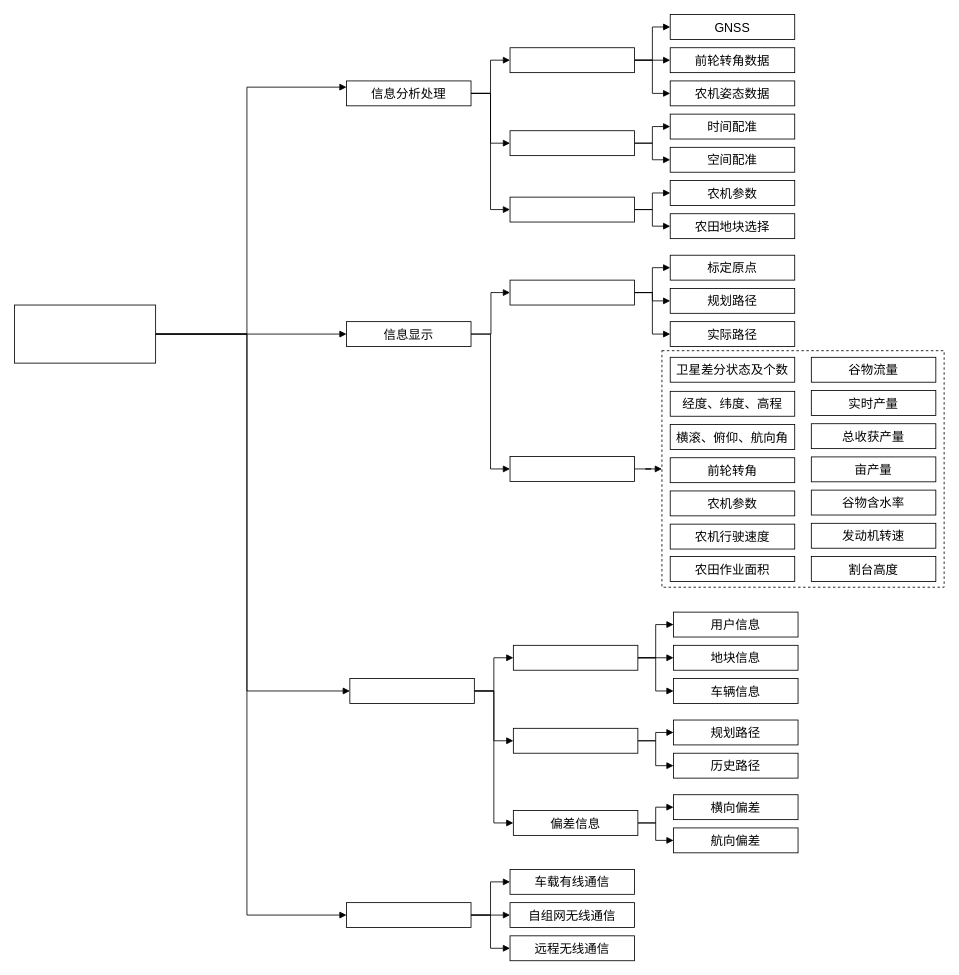
Image size: 959x975. Some labels were removed from this diagram. Each missing label, with the centre of its shape:
信息存储: point 411,690
信息配准: point 572,143
农作信息: point 575,657
参数设置: point 572,209
图形显示: point 572,292
数据显示: point 572,468
数据解析: point 572,60
数据通信: point 408,915
自组网多机协同导航终端系统: point 85,333
路径坐标: point 575,740
